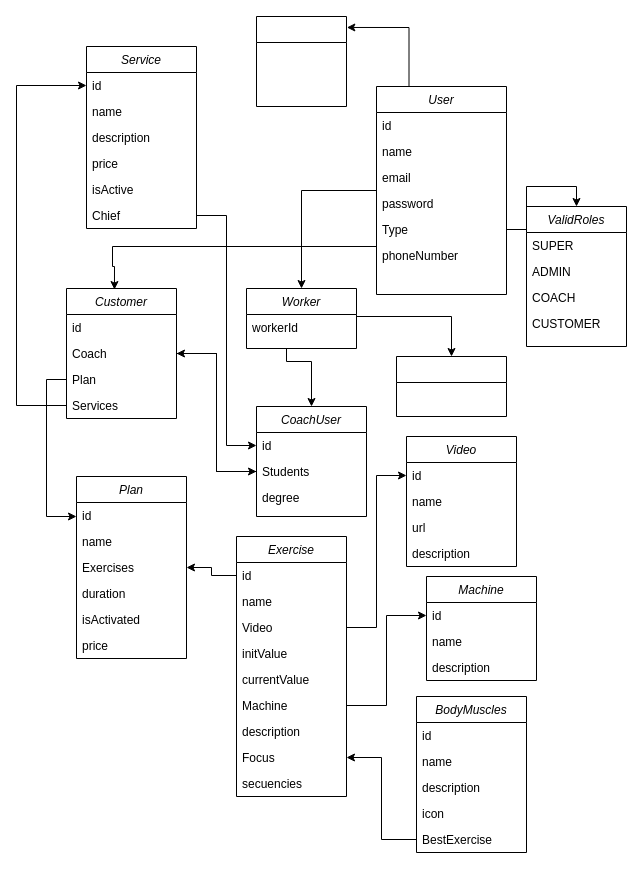
This 643x869 diagram has some shape labels left out. The shapes that lost their labels are listed below. From the top down, each one's centre as x and y in pixels, then its label:
the point at 301,61: SuperUser
the point at 451,386: AdminUser
